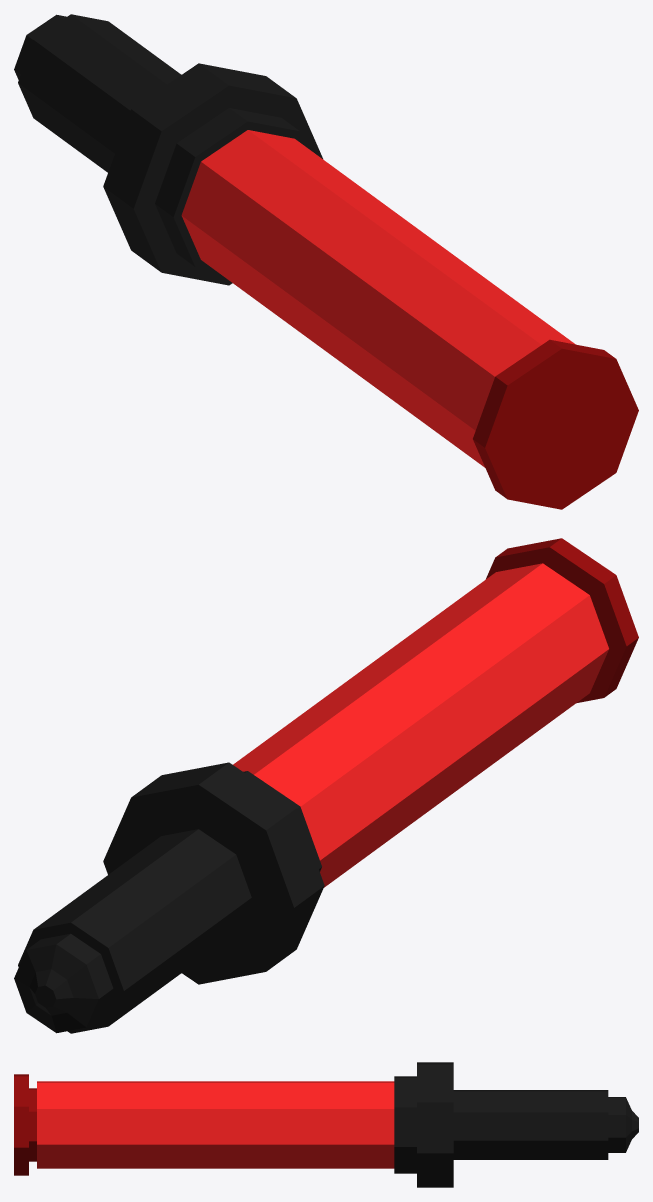
Rendered from 55_Bet.fbx.
The picture shows the model from 3 angles, top to bottom: view 1: azimuth 30°, elevation 25°; view 2: azimuth 150°, elevation 25°; view 3: azimuth 270°, elevation 25°; orthographic projection. The views are drawn at different scales.
Visible parts, largest first — view 1: Bet; view 2: Bet; view 3: Bet.
Part boxes in pixels (left/top/right/bottom): Bet: left=14, top=14, right=638, bottom=509; Bet: left=14, top=538, right=638, bottom=1033; Bet: left=14, top=1062, right=638, bottom=1187.
Bounding box in the file's own units: 23.25 × 23.25 × 109.
